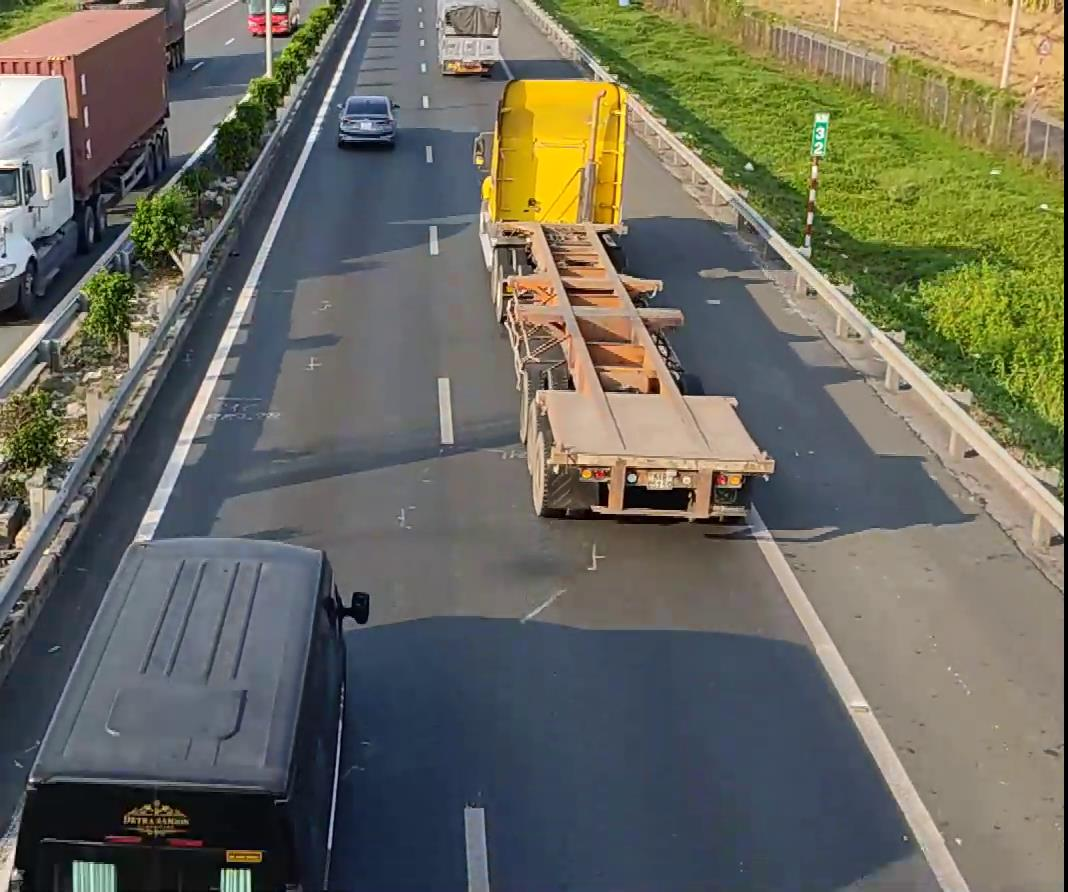car: (0, 555, 365, 887), (335, 88, 403, 152)
container: (476, 68, 772, 522), (0, 0, 185, 328)
truck: (433, 0, 502, 76)
